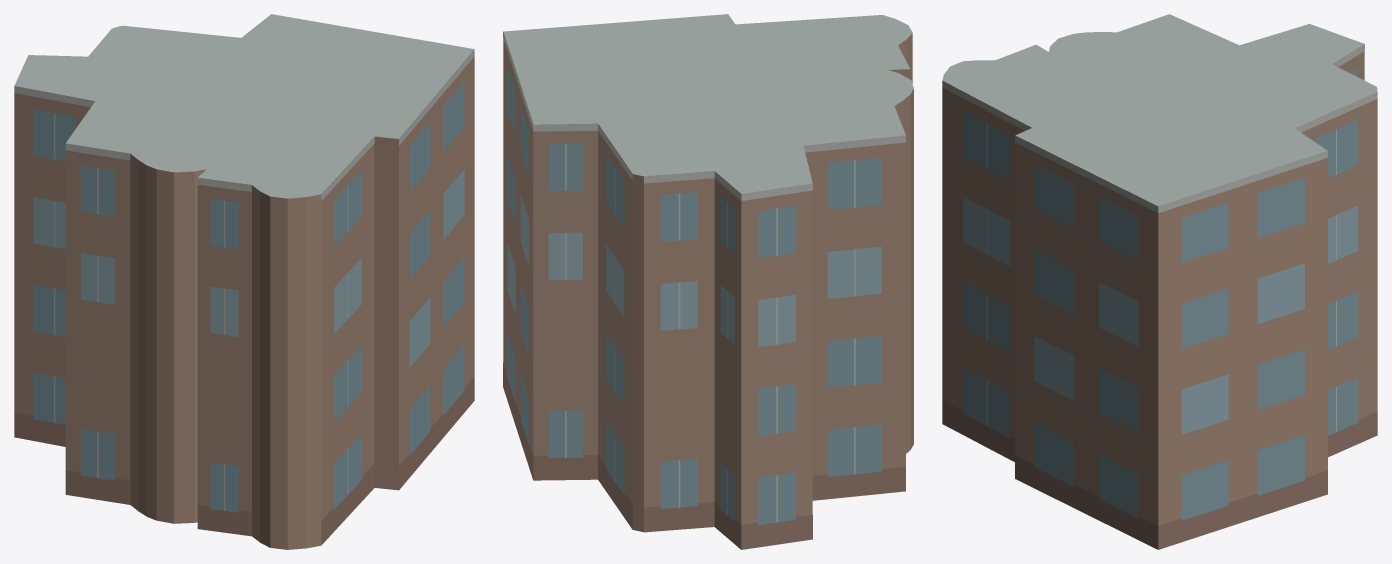
File: survey-upis-32847846.glb
The picture shows the model from 3 angles, left to right: view 1: azimuth 30°, elevation 25°; view 2: azimuth 150°, elevation 25°; view 3: azimuth 270°, elevation 25°; orthographic projection. The views are drawn at different scales.
Visible parts, largest first — view 1: survey-upis-32847846.tmp; view 2: survey-upis-32847846.tmp; view 3: survey-upis-32847846.tmp.
Boxes of the visible parts, x1=… form: survey-upis-32847846.tmp: x1=14, y1=14, x2=474, y2=549; survey-upis-32847846.tmp: x1=503, y1=14, x2=913, y2=549; survey-upis-32847846.tmp: x1=942, y1=14, x2=1377, y2=549.
Bounding box in the file's own units: 14.66 × 12.2 × 14.02.
